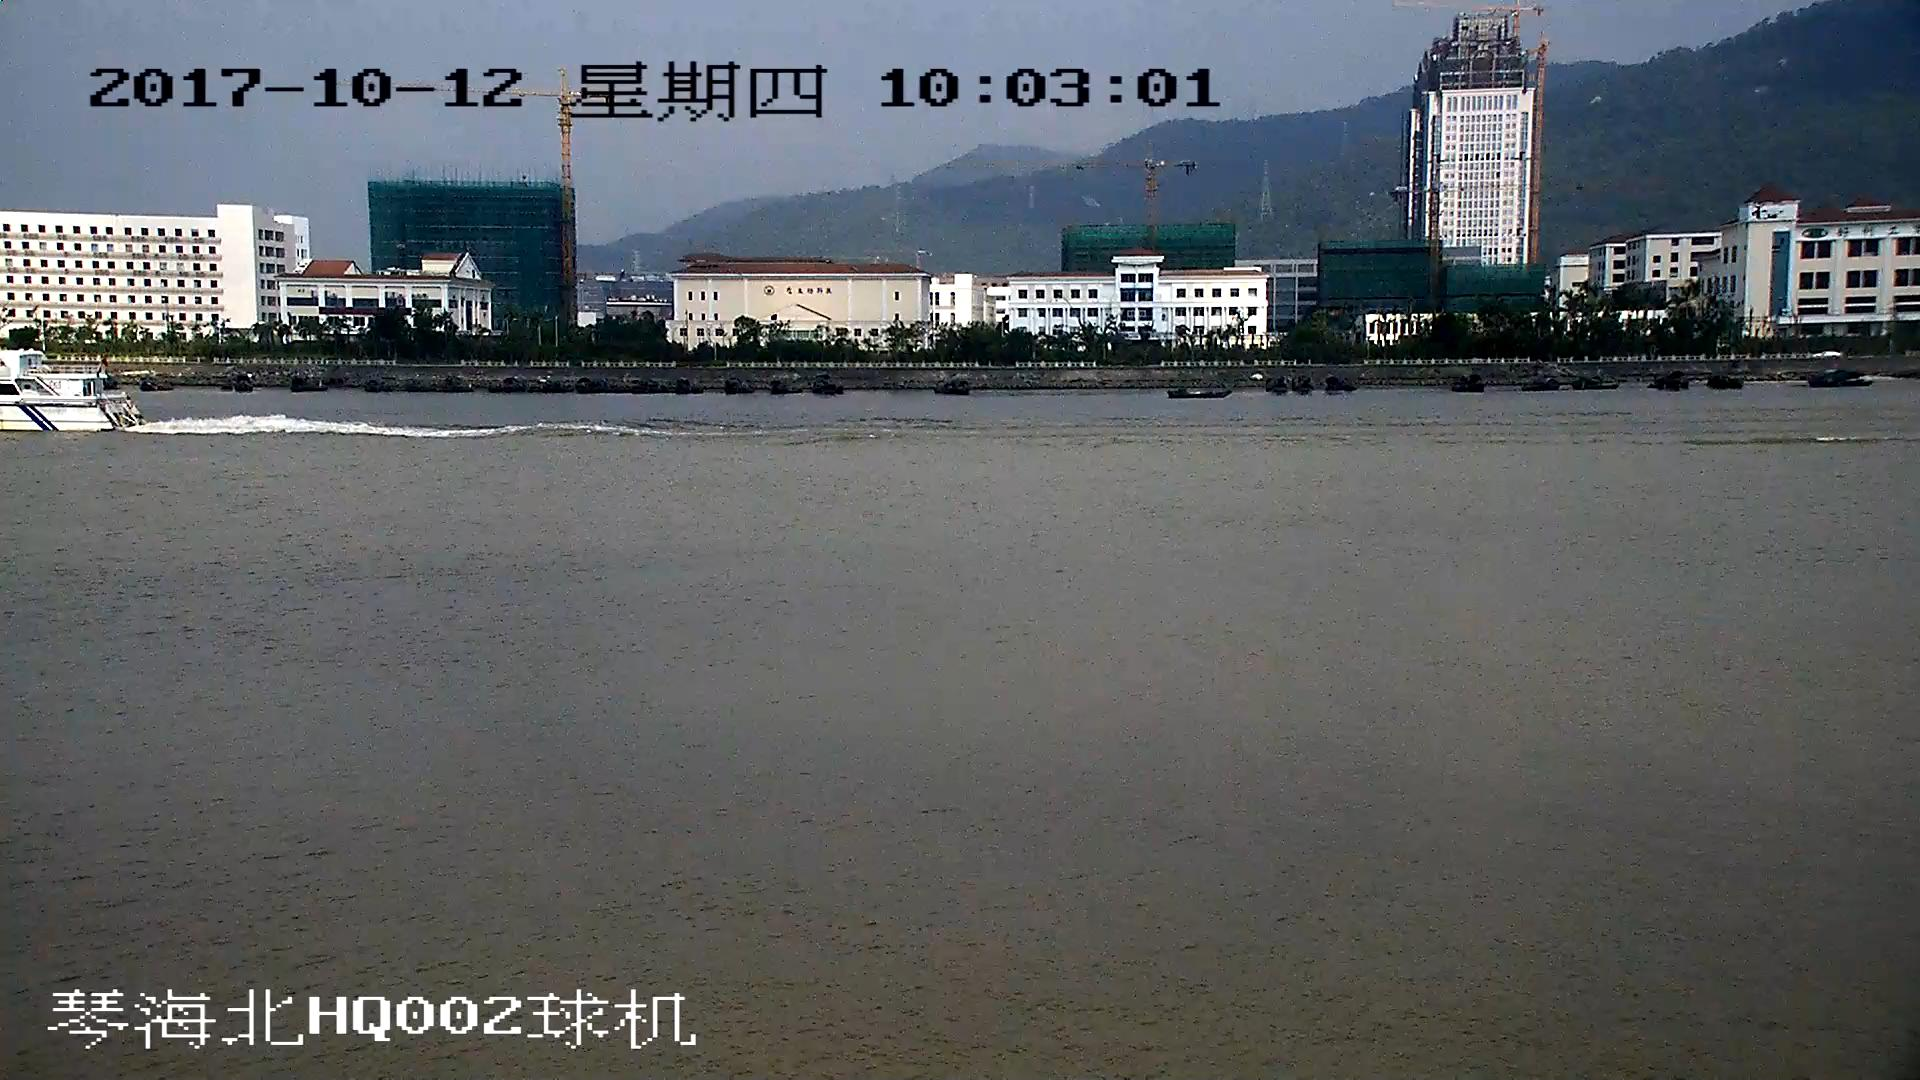passenger ship: (1, 349, 142, 434)
